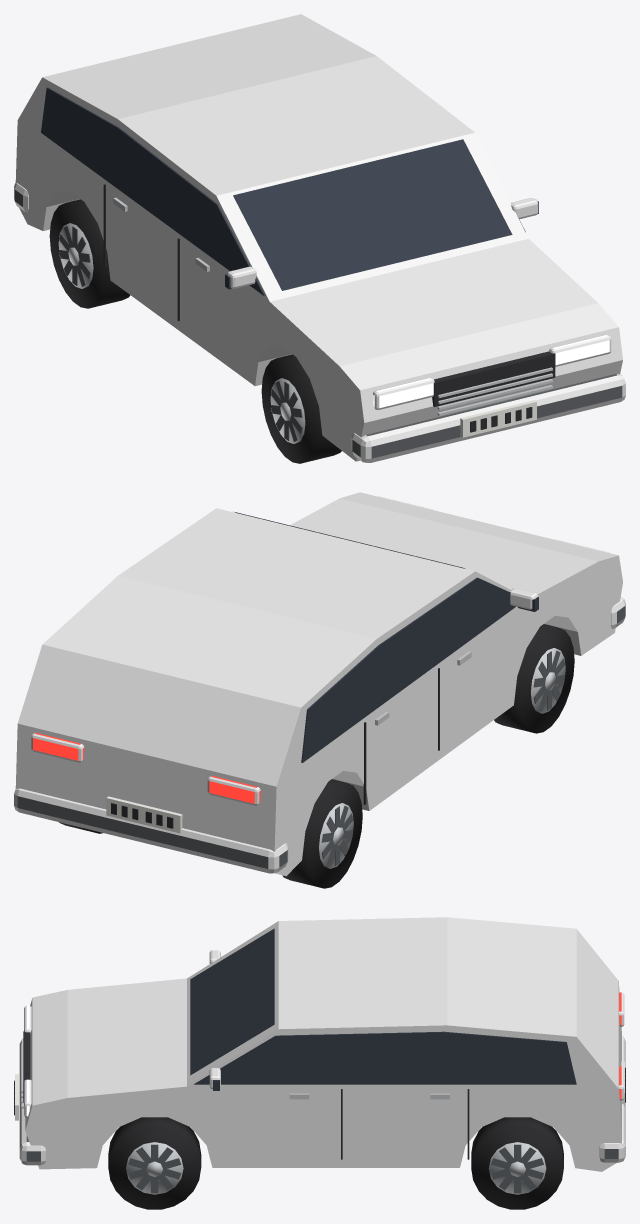
Rendered from hatch.gltf.
The picture shows the model from 3 angles, top to bottom: view 1: azimuth 30°, elevation 25°; view 2: azimuth 150°, elevation 25°; view 3: azimuth 270°, elevation 25°; orthographic projection. The views are drawn at different scales.
Parts seen in each view (by area): view 1: hatch, Wheel1, Wheel3; view 2: hatch, Wheel1, Wheel3; view 3: hatch, Wheel0, Wheel2.
Part boxes in pixels (<box>): hatch: <box>14,14,625,462</box>; Wheel1: <box>261,354,341,463</box>; Wheel3: <box>49,199,130,308</box>; hatch: <box>14,492,625,876</box>; Wheel1: <box>494,624,574,733</box>; Wheel3: <box>282,779,362,888</box>; hatch: <box>14,917,625,1171</box>; Wheel0: <box>108,1117,201,1209</box>; Wheel2: <box>471,1117,563,1209</box>.
Size of the model in its own units: 0.436 by 0.2893 by 0.8704.
9 materials, 1 textured.
